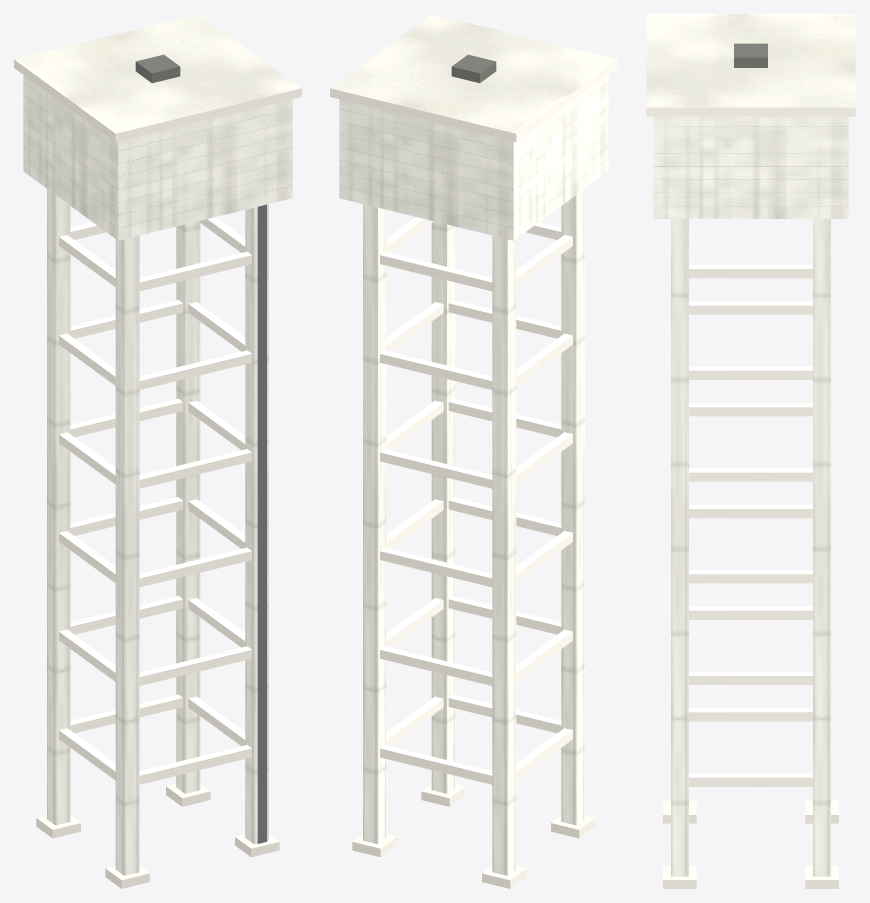
File: water-tank.glb
The picture shows the model from 3 angles, left to right: view 1: azimuth 30°, elevation 25°; view 2: azimuth 150°, elevation 25°; view 3: azimuth 270°, elevation 25°; orthographic projection. The views are drawn at different scales.
Visible parts, largest first — view 1: Water Tank; view 2: Water Tank; view 3: Water Tank.
Boxes of the visible parts, x1,y1,x2,y2 form: Water Tank: (14,14,301,888); Water Tank: (330,14,617,888); Water Tank: (646,14,855,888).
Bounding box in the file's own units: 7.9 × 31.4 × 7.47.
1 material, 1 textured.
